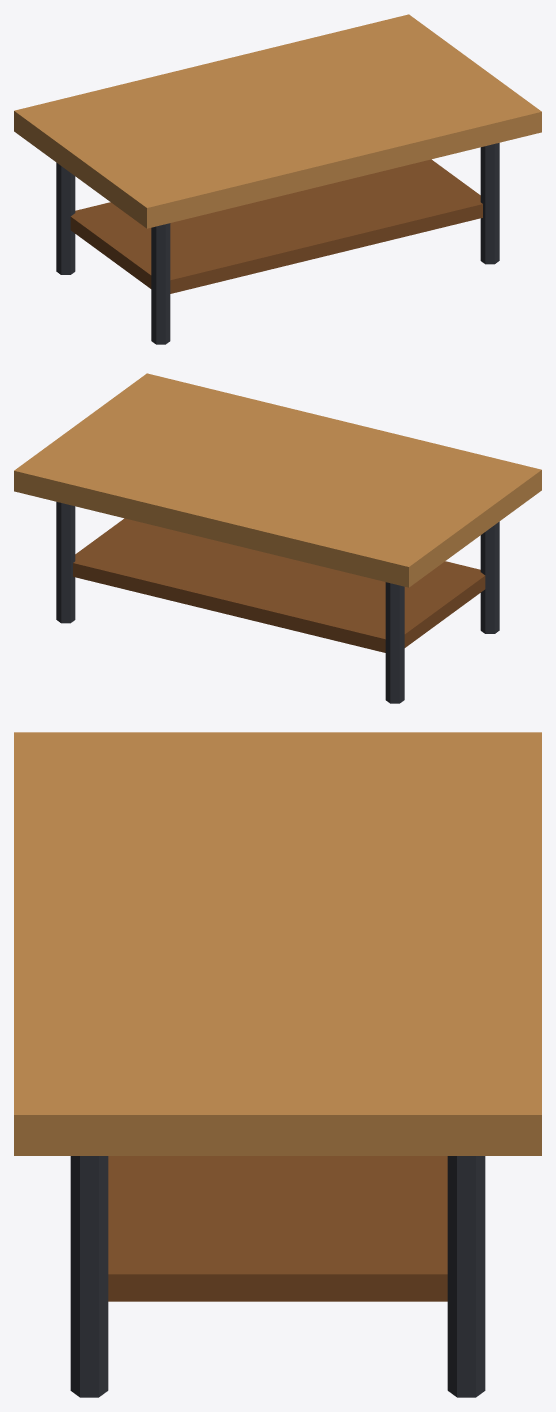
File: coffee_table.glb
The picture shows the model from 3 angles, top to bottom: view 1: azimuth 30°, elevation 25°; view 2: azimuth 150°, elevation 25°; view 3: azimuth 270°, elevation 25°; orthographic projection. The views are drawn at different scales.
Parts seen in each view (by area): view 1: coffee_table; view 2: coffee_table; view 3: coffee_table.
Part boxes in pixels (left/top/right/bottom): coffee_table: left=14, top=14, right=541, bottom=344; coffee_table: left=14, top=373, right=541, bottom=703; coffee_table: left=14, top=732, right=541, bottom=1397.
Bounding box in the file's own units: 1.2 × 0.45 × 0.7.
